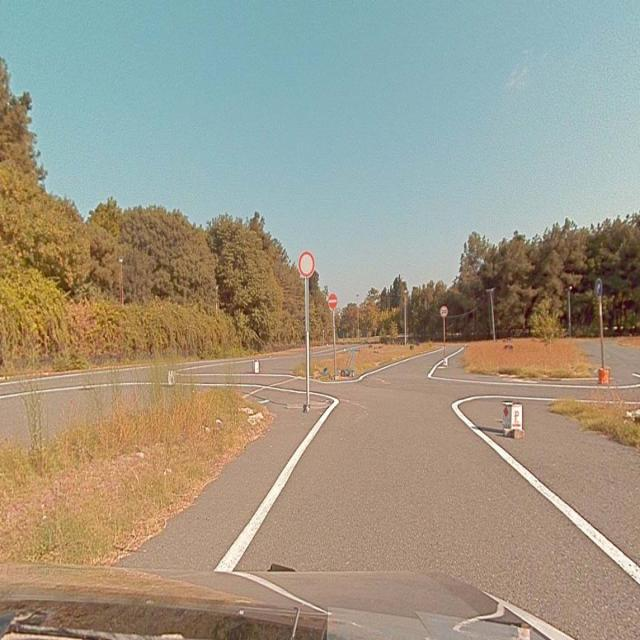girisyok: (328, 294, 338, 308)
